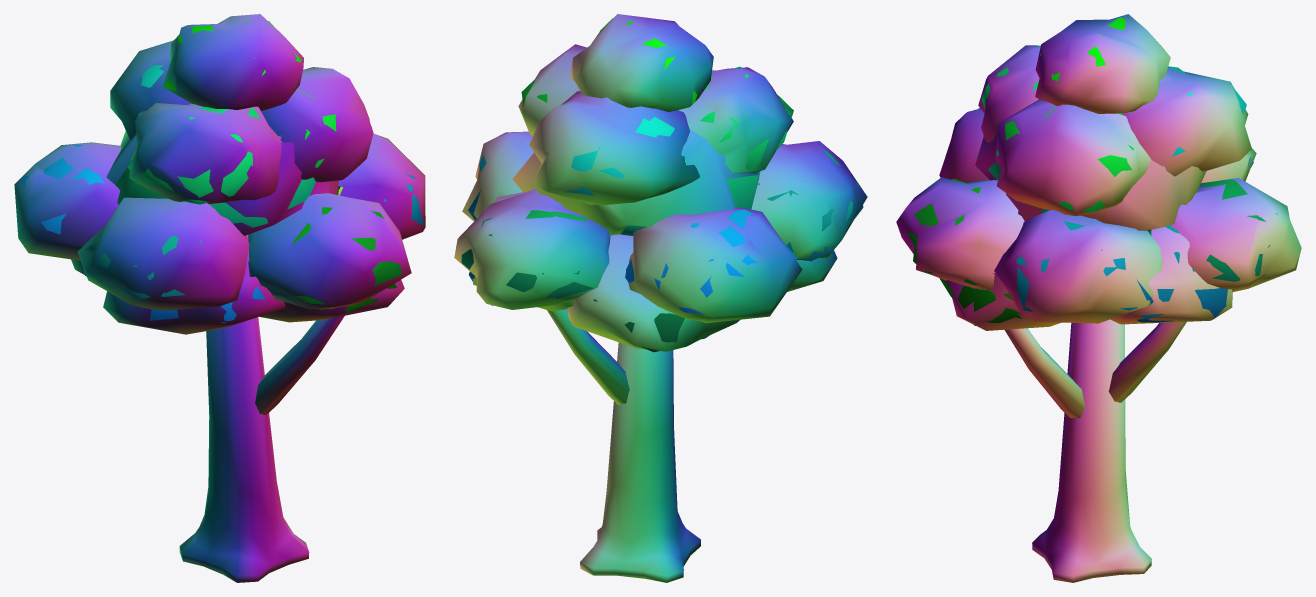
The model's file is SM_Foliage_Plains_Oak_B_LOD1.fbx.
The picture shows the model from 3 angles, left to right: view 1: azimuth 30°, elevation 25°; view 2: azimuth 150°, elevation 25°; view 3: azimuth 270°, elevation 25°; orthographic projection.
Parts seen in each view (by area): view 1: SM_Foliage_Plains_Oak_B_LOD1; view 2: SM_Foliage_Plains_Oak_B_LOD1; view 3: SM_Foliage_Plains_Oak_B_LOD1.
Part boxes in pixels (x1=…): SM_Foliage_Plains_Oak_B_LOD1: x1=14, y1=14, x2=425, y2=582; SM_Foliage_Plains_Oak_B_LOD1: x1=454, y1=14, x2=867, y2=582; SM_Foliage_Plains_Oak_B_LOD1: x1=896, y1=14, x2=1301, y2=582.
Size of the model in its own units: 2.7 by 3.94 by 2.72.
